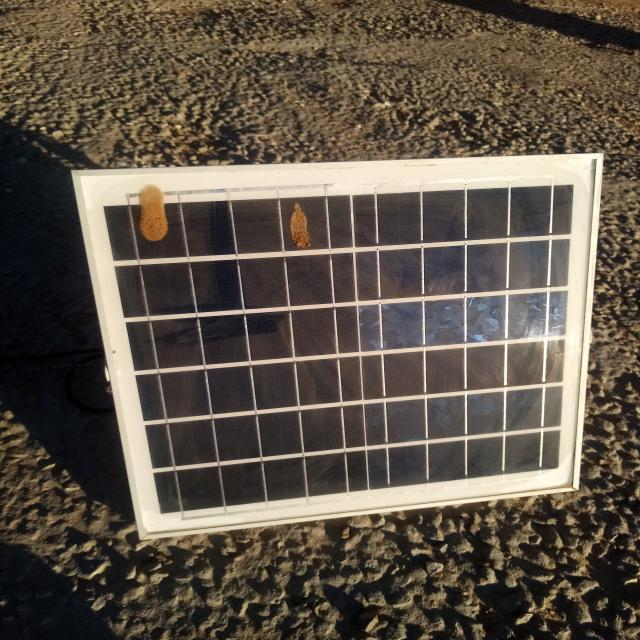faulty: (78, 157, 597, 538)
